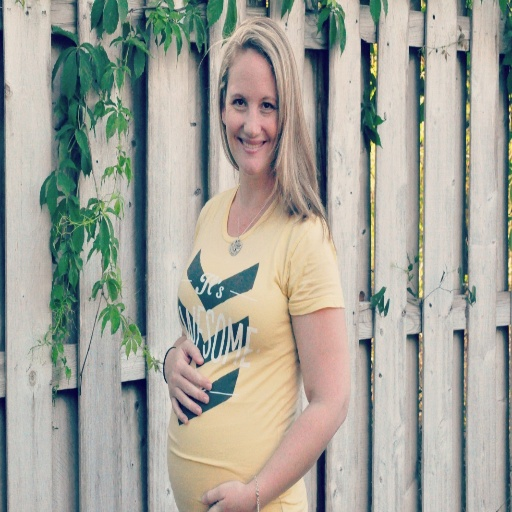hand: (169, 343, 211, 422), (199, 476, 258, 511)
